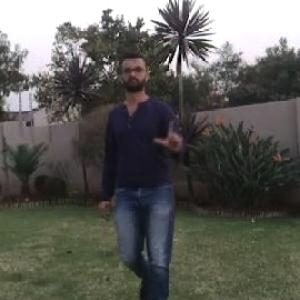land_hand: (154, 115, 186, 153)
